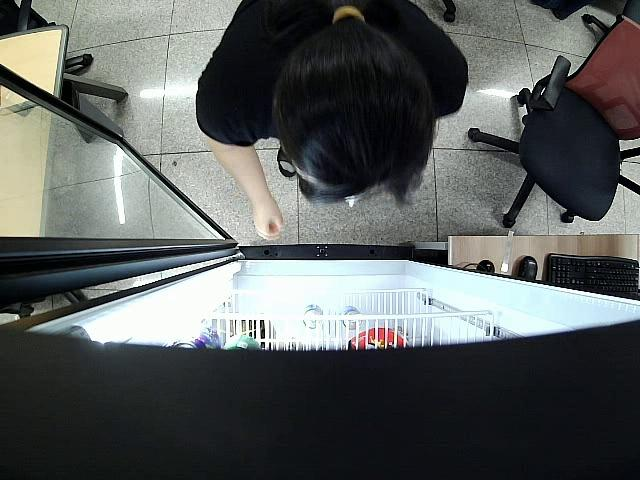00_hand: (253, 200, 285, 241)
